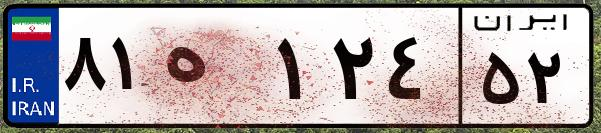1: (270, 28, 330, 110), (110, 28, 158, 98)
2: (330, 28, 385, 110), (525, 38, 570, 115)
4: (385, 28, 445, 110)
5: (475, 38, 525, 113)
8: (57, 26, 110, 100)
ه: (158, 20, 270, 120)
